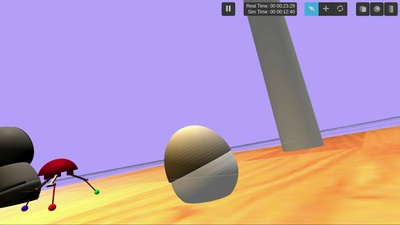mira_robot: (165, 125, 239, 204)
